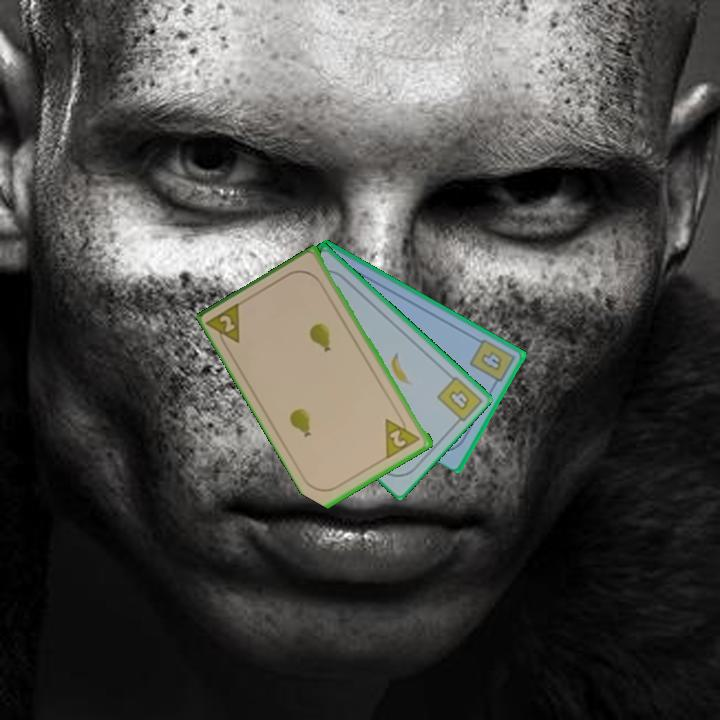2p: (204, 298, 245, 353), (381, 410, 423, 461)
4b: (466, 335, 518, 390), (445, 386, 473, 413)
